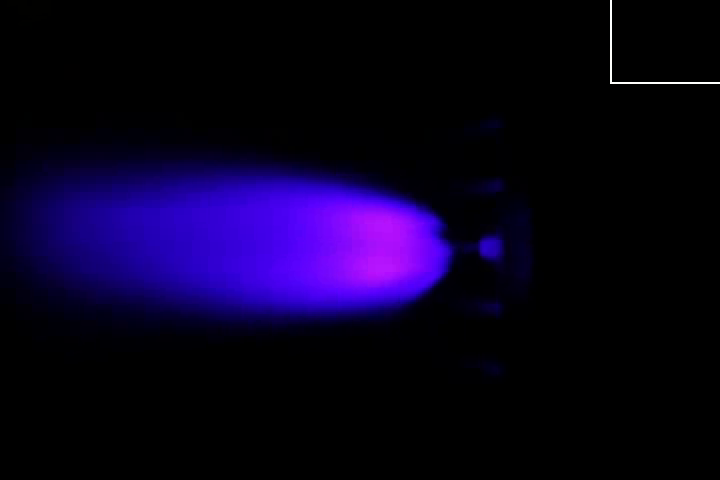burner cap: (480, 232, 506, 262)
unstable: (296, 178, 480, 319)
